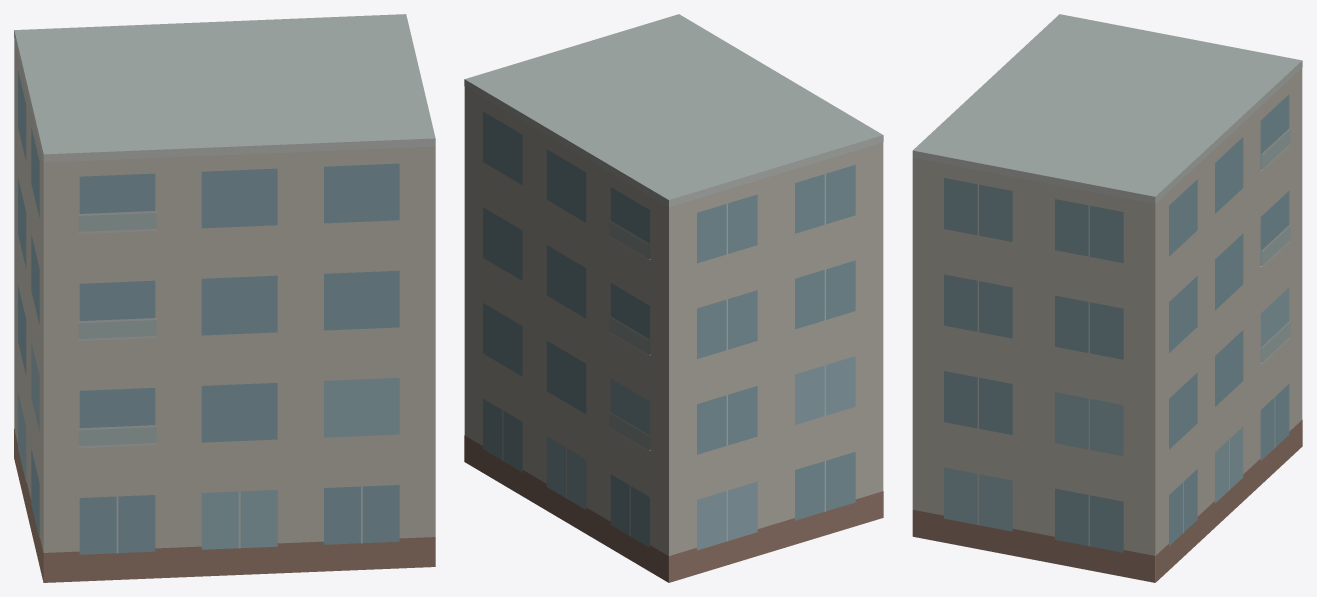
Rendered from survey-upis-32656860.glb.
The picture shows the model from 3 angles, left to right: view 1: azimuth 30°, elevation 25°; view 2: azimuth 150°, elevation 25°; view 3: azimuth 270°, elevation 25°; orthographic projection. The views are drawn at different scales.
Visible parts, largest first — view 1: survey-upis-32656860.tmp; view 2: survey-upis-32656860.tmp; view 3: survey-upis-32656860.tmp.
Boxes of the visible parts, x1,y1,x2,y2 form: survey-upis-32656860.tmp: (14, 14, 435, 582); survey-upis-32656860.tmp: (464, 14, 883, 582); survey-upis-32656860.tmp: (912, 14, 1302, 582).
Bounding box in the file's own units: 13.21 × 13 × 11.91.
